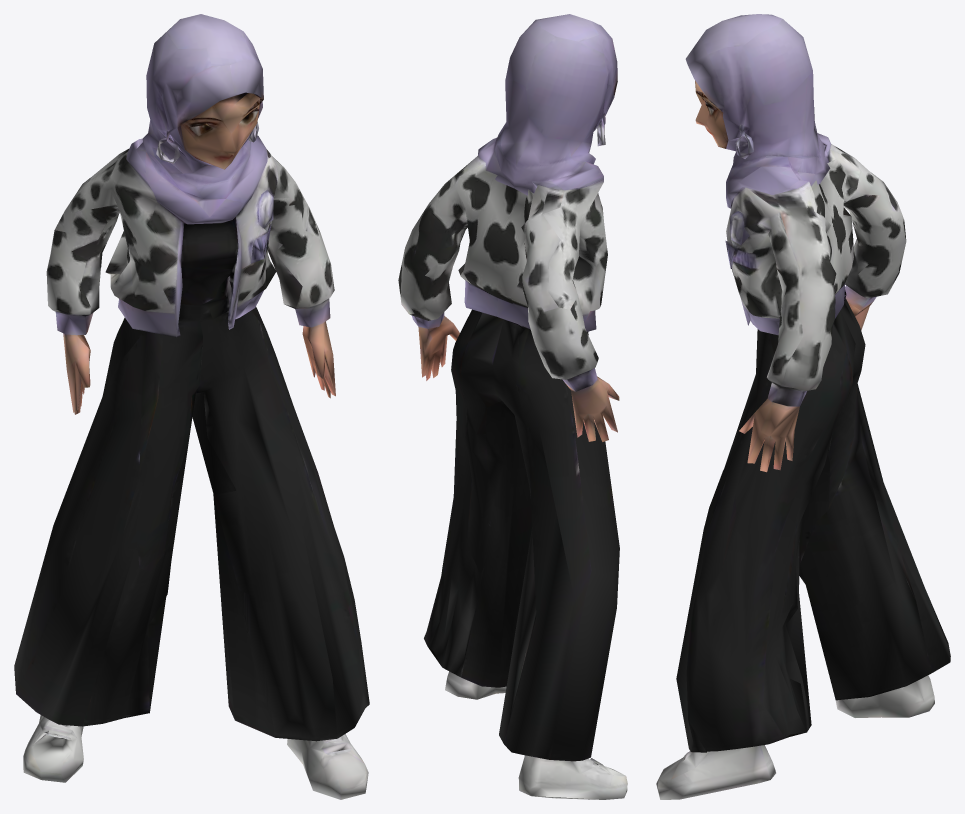
Rendered from fan08.glb.
3 renders of one model, left to right at view 1: azimuth 30°, elevation 25°; view 2: azimuth 150°, elevation 25°; view 3: azimuth 270°, elevation 25°, orthographic. The views are drawn at different scales.
Visible parts, largest first — view 1: material_proxy; view 2: material_proxy; view 3: material_proxy.
Part boxes in pixels (x1,y1,x2,y2): material_proxy: (14, 14, 369, 799); material_proxy: (398, 14, 627, 799); material_proxy: (656, 14, 950, 799).
Size of the model in its own units: 0.4295 by 1.16 by 0.4227.
Materials: 1 (1 with a texture image).
